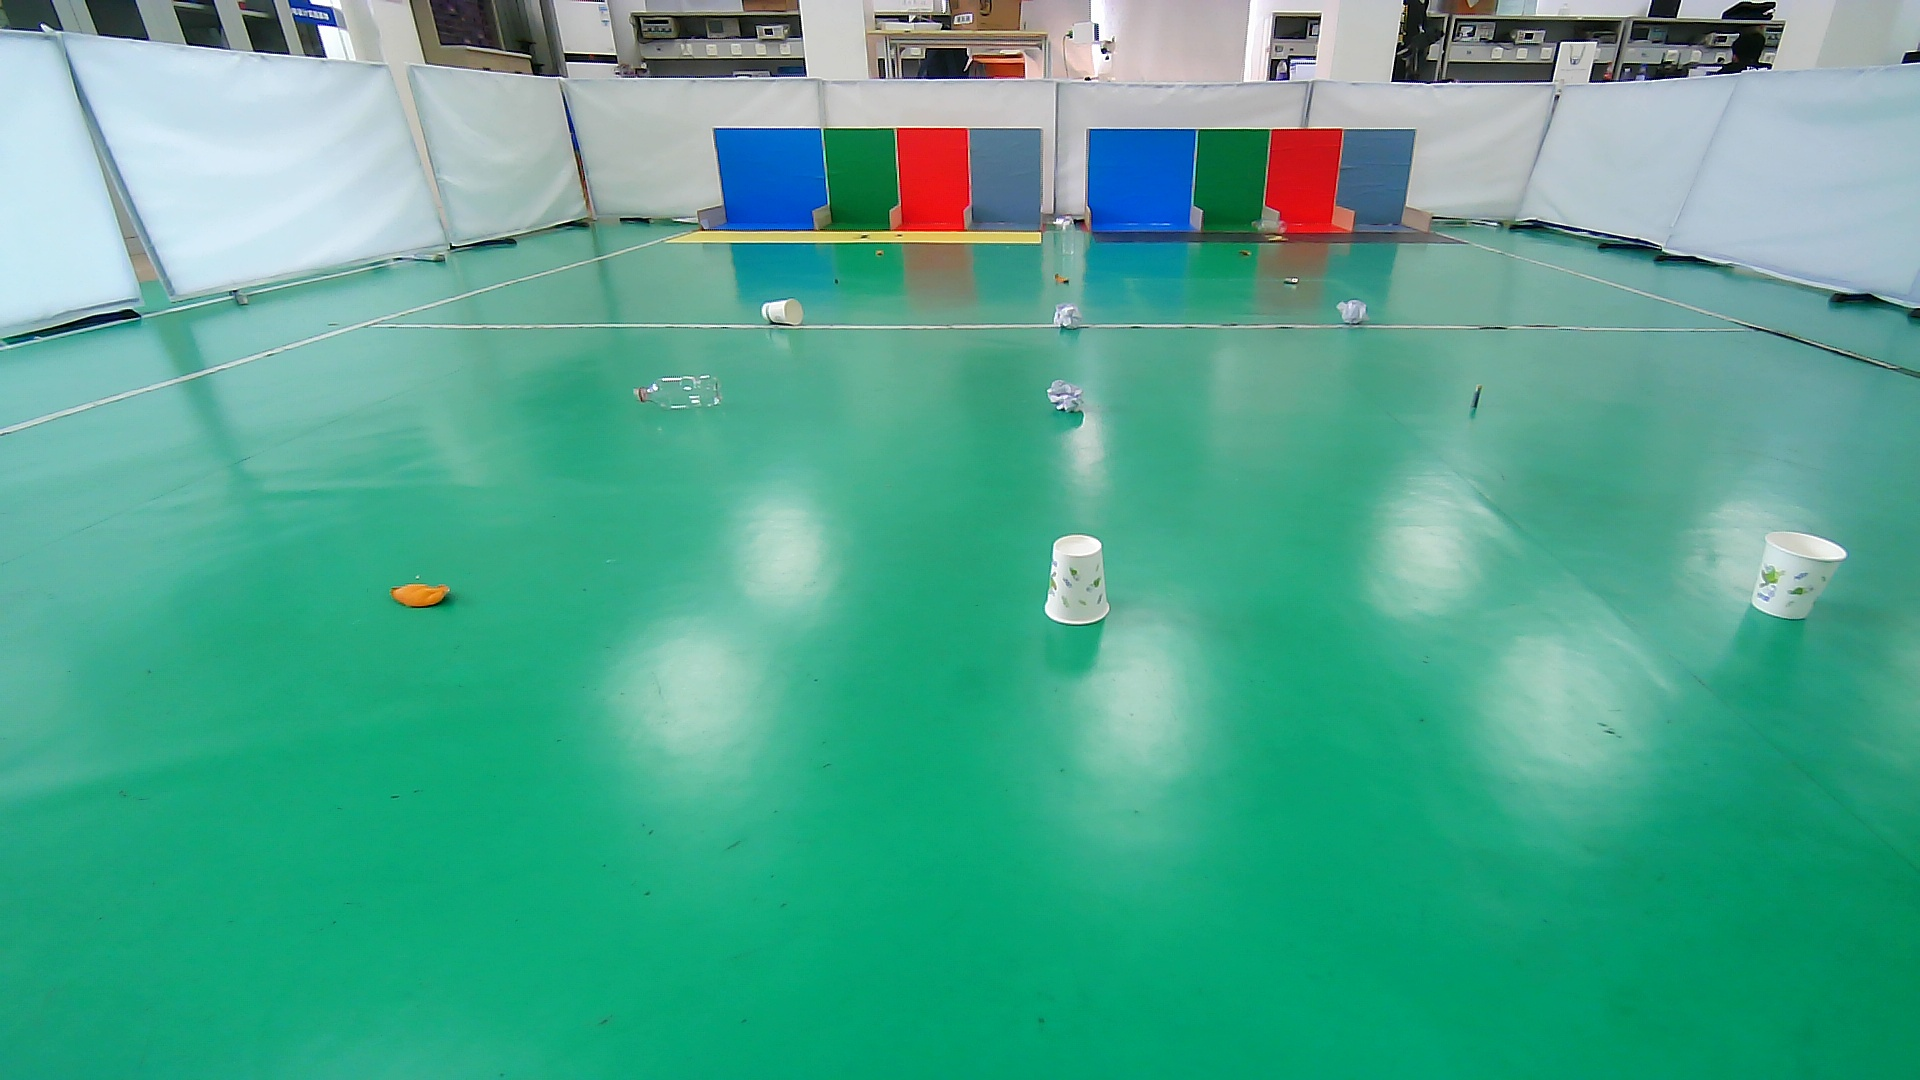battery: (1462, 377, 1489, 419), (1276, 272, 1305, 287), (827, 273, 845, 287)
bottle: (628, 368, 727, 418), (1058, 211, 1077, 258)
orangepeel: (384, 574, 458, 616), (1048, 269, 1076, 287), (870, 245, 890, 260)
papercup: (1746, 525, 1847, 632), (1040, 531, 1116, 626), (760, 297, 806, 327)
spitball: (1040, 375, 1089, 417), (1050, 303, 1087, 334), (1335, 297, 1371, 327)
